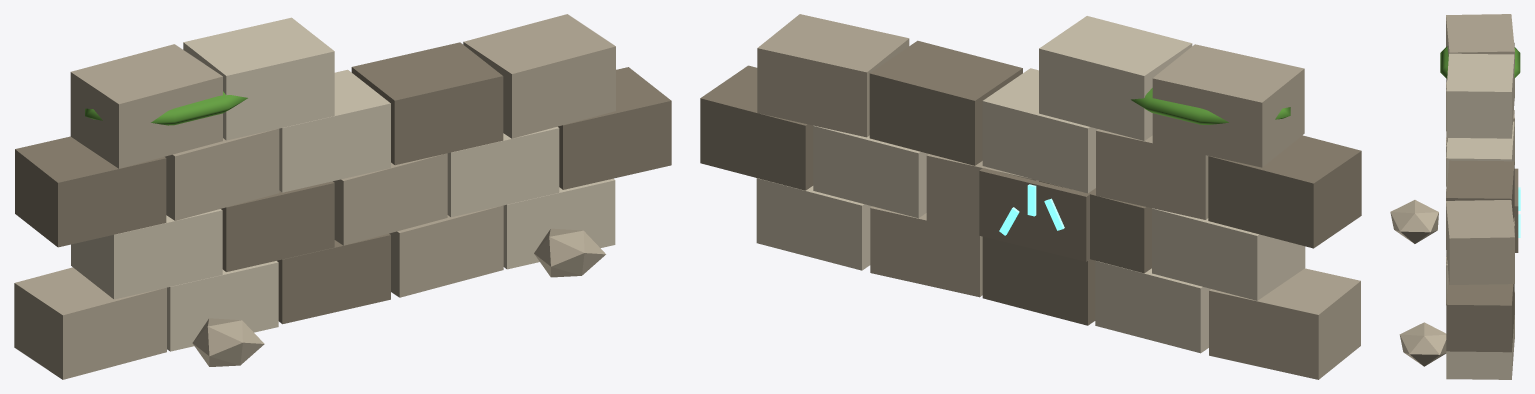
The model's file is RuinWall.glb.
3 views of the same model, side by side, from view 1: azimuth 30°, elevation 25°; view 2: azimuth 150°, elevation 25°; view 3: azimuth 270°, elevation 25° (orthographic). The views are drawn at different scales.
Parts seen in each view (by area): view 1: Body; view 2: Body, Rune; view 3: Body, Rune.
Part boxes in pixels (x1,y1,x2,y2): Body: [14, 14, 671, 379]; Body: [700, 14, 1361, 379]; Rune: [999, 184, 1064, 235]; Body: [1390, 14, 1520, 379]; Rune: [1518, 187, 1520, 237].
Size of the model in its own units: 10.95 by 4.54 by 2.79.
2 materials, 1 textured.
